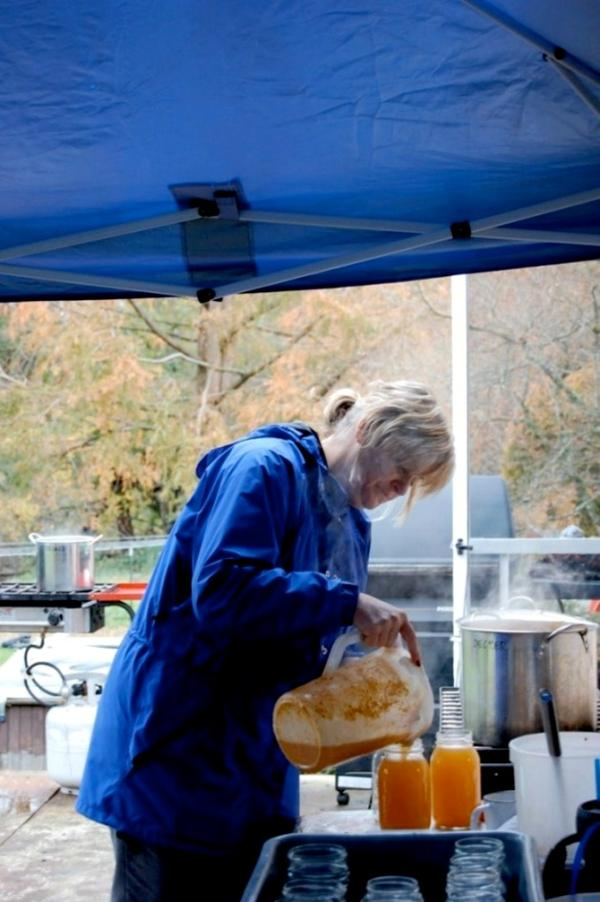person: (75, 376, 458, 898)
